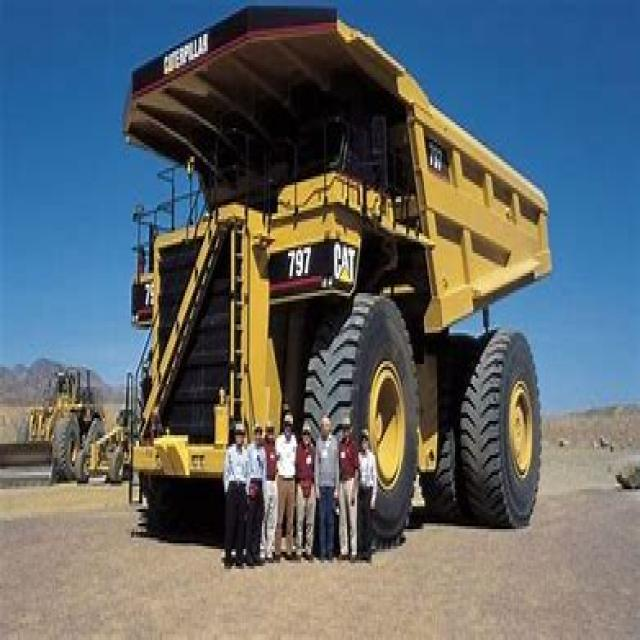dump_truck: (97, 3, 563, 532)
